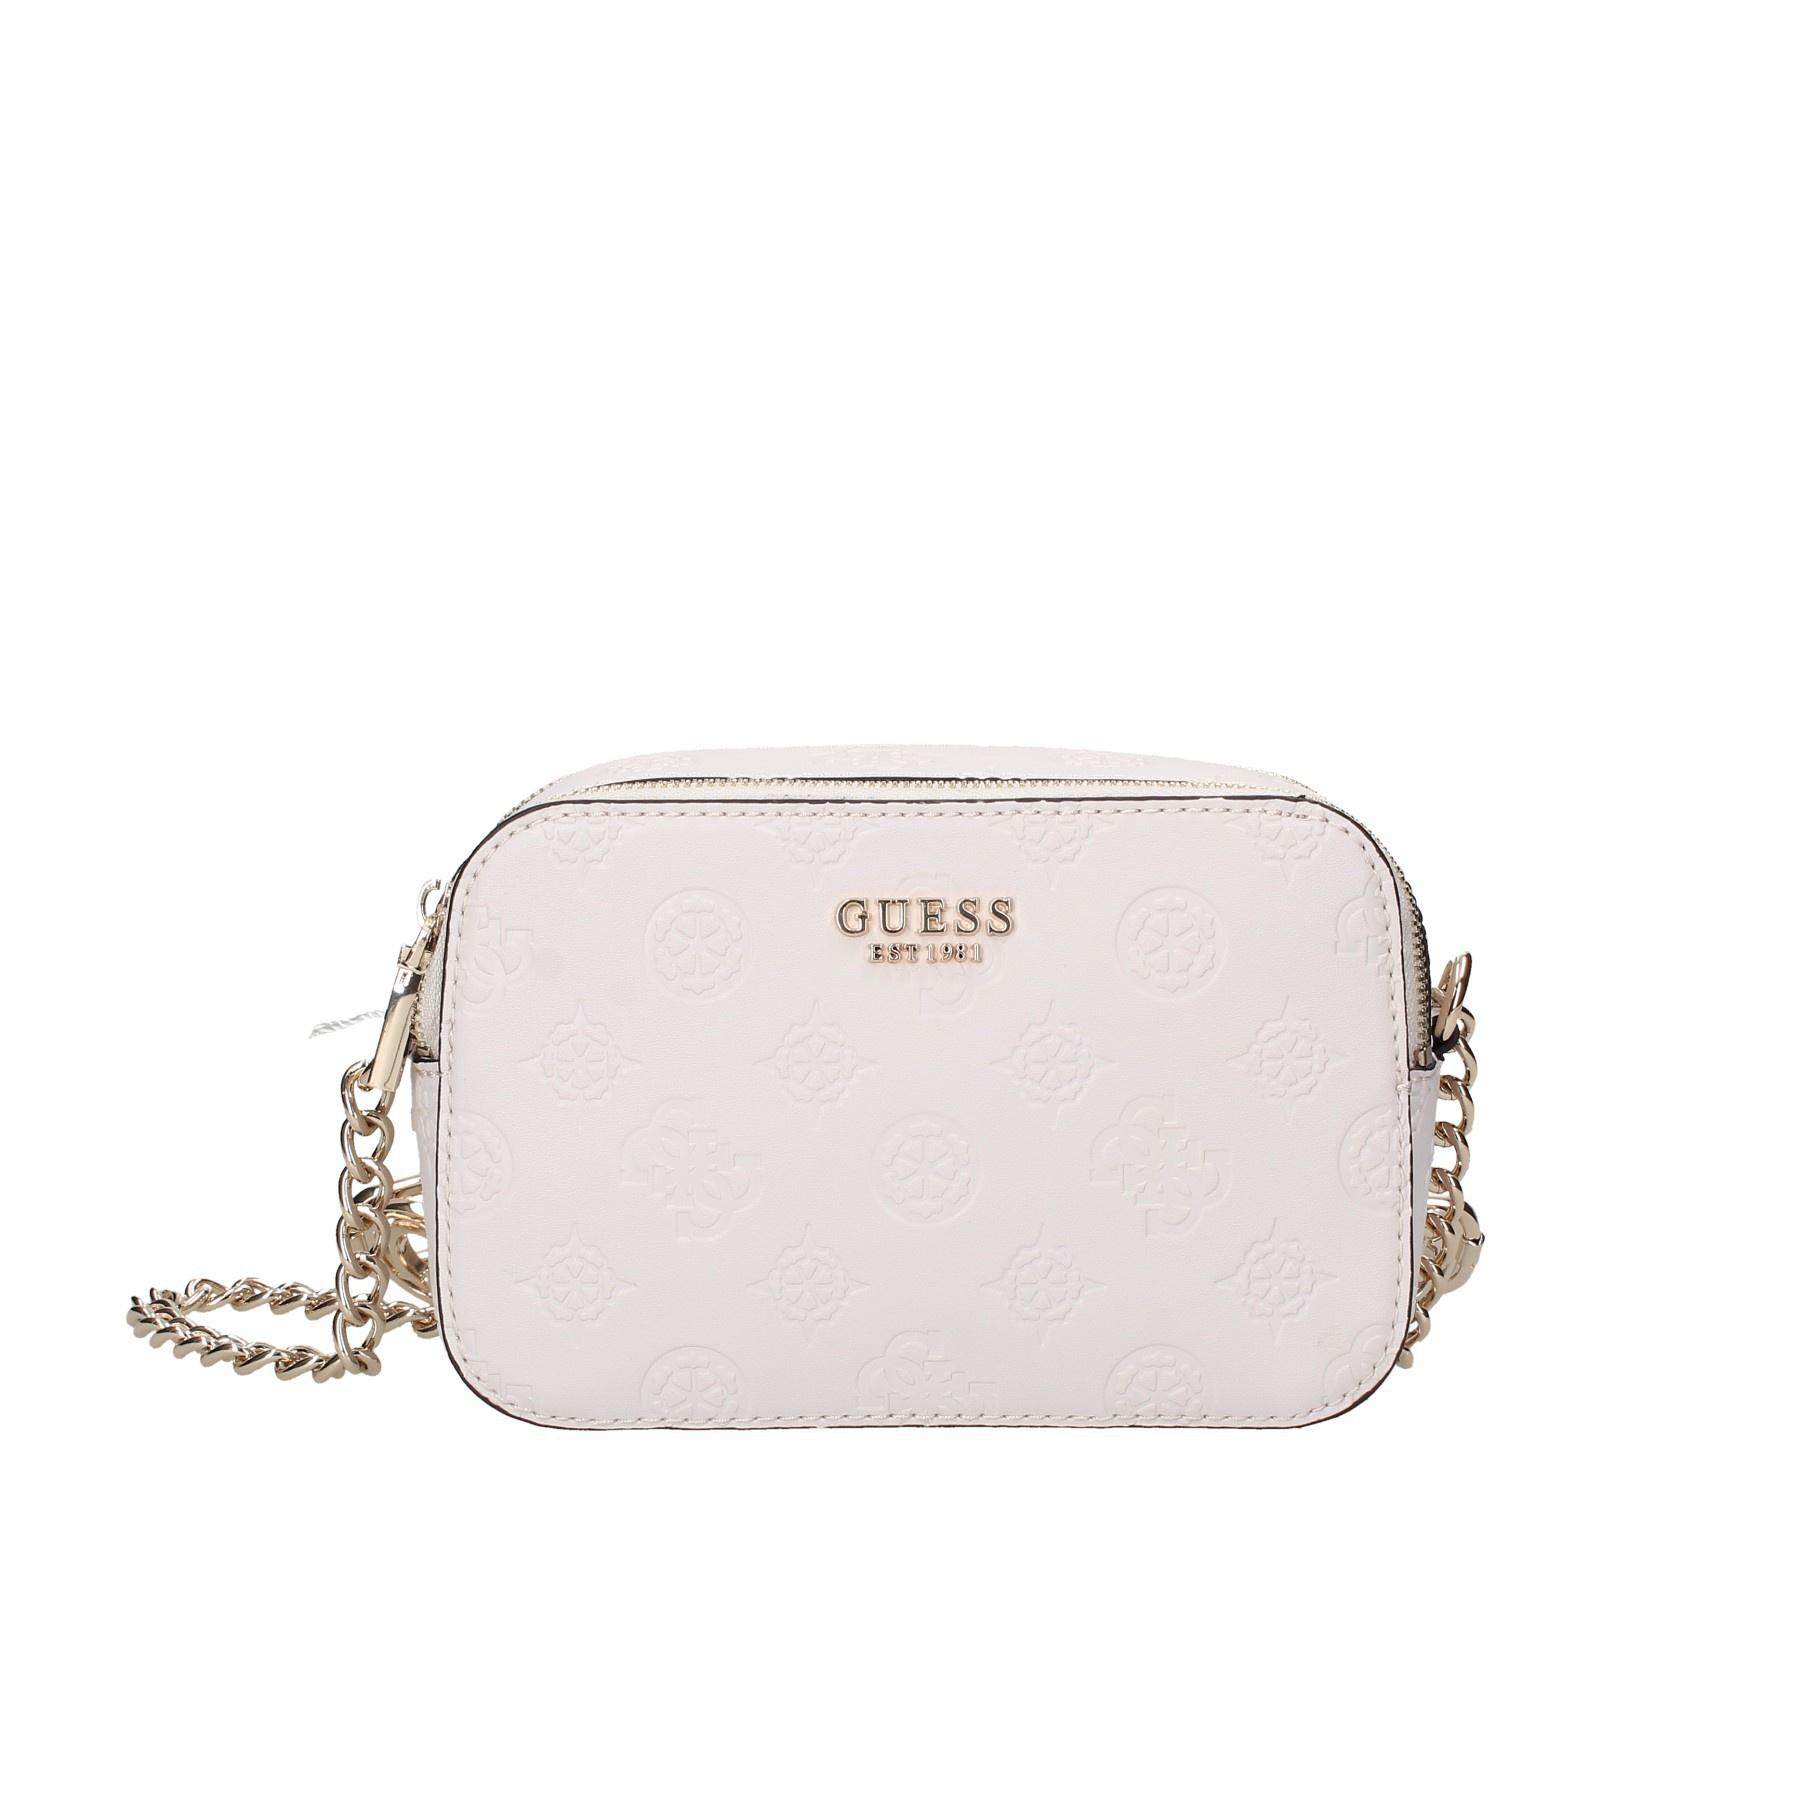GUESS: (836, 897, 1012, 936)
